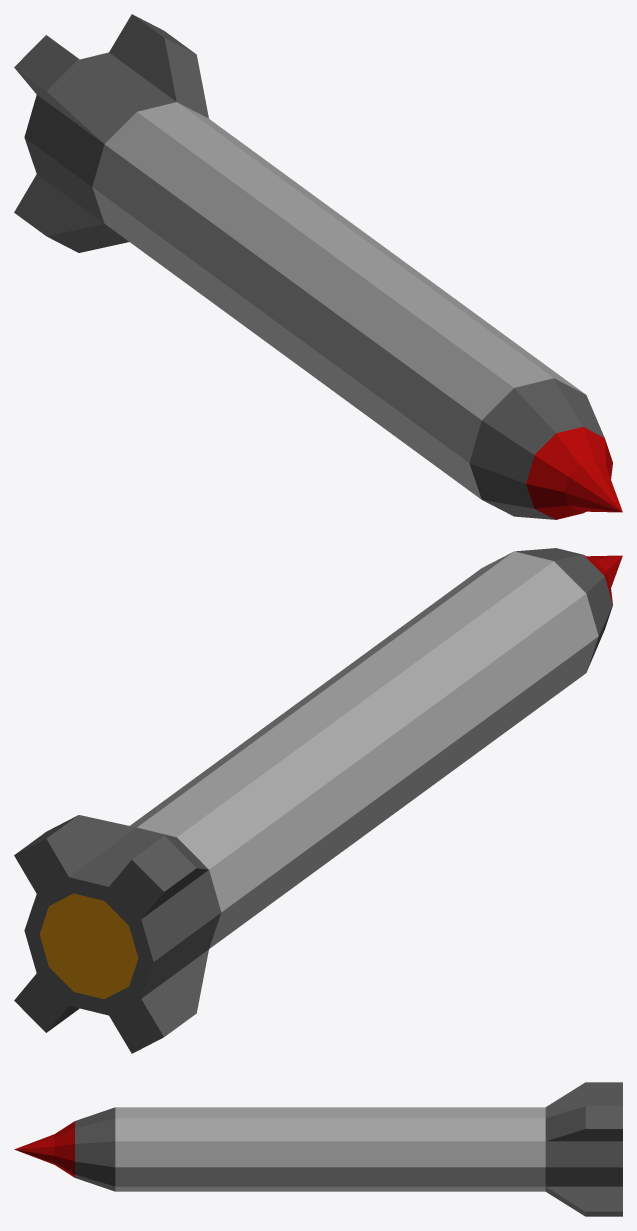
Rendered from Rocket.fbx.
3 renders of one model, top to bottom at view 1: azimuth 30°, elevation 25°; view 2: azimuth 150°, elevation 25°; view 3: azimuth 270°, elevation 25°, orthographic. The views are drawn at different scales.
Parts seen in each view (by area): view 1: Rocket; view 2: Rocket; view 3: Rocket.
Boxes of the visible parts, box(x1,y1,x2,y2) form: Rocket: box(14, 14, 622, 519); Rocket: box(14, 548, 622, 1053); Rocket: box(14, 1082, 622, 1216).
Size of the model in its own units: 24.36 by 30.13 by 150.
